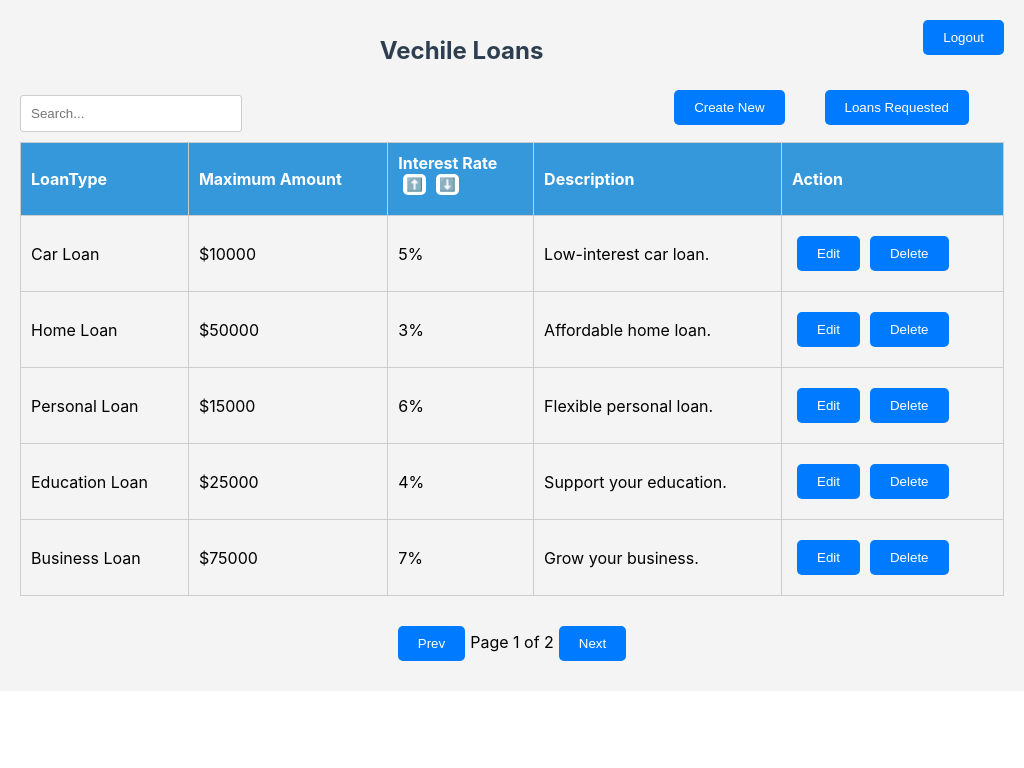
Test case: Adminhomepage › admin_home_page_pagination_next_button
Check: the text "Business Loan" is shown, box [20, 520, 188, 596]
Check: the text "Mortgage Loan" is not shown
Click the button "Next". click: x=592, y=644
box: [559, 626, 626, 661]
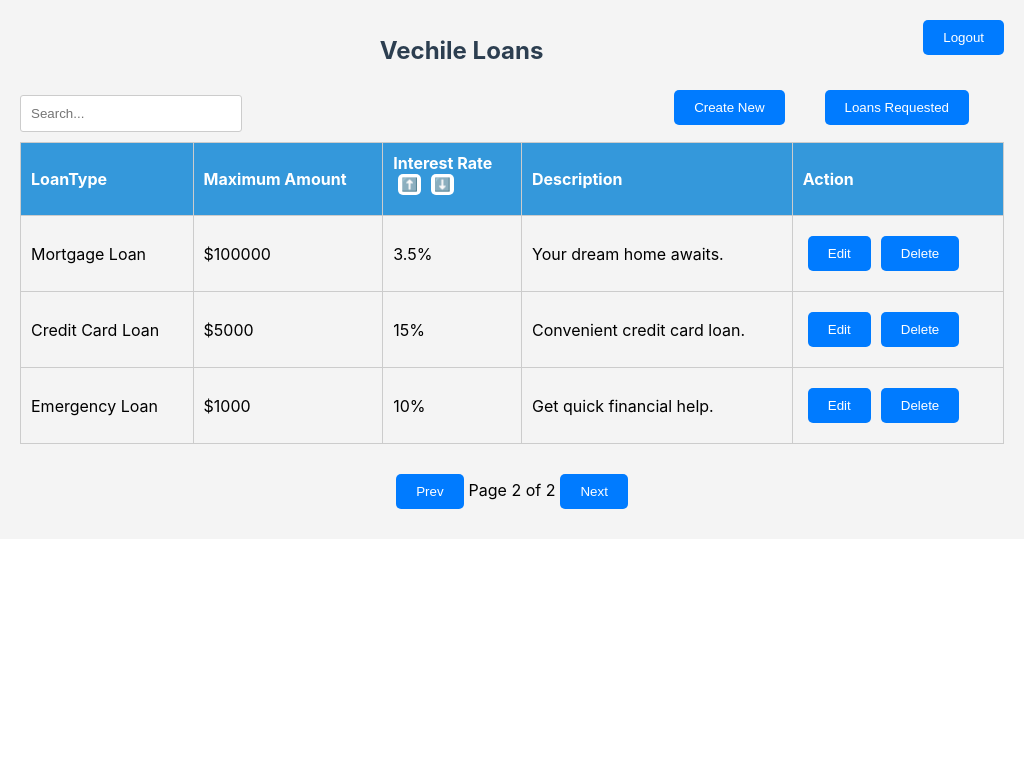
Check: the text "Mortgage Loan" is shown, box [20, 216, 193, 292]
Check: the text "Business Loan" is gone
